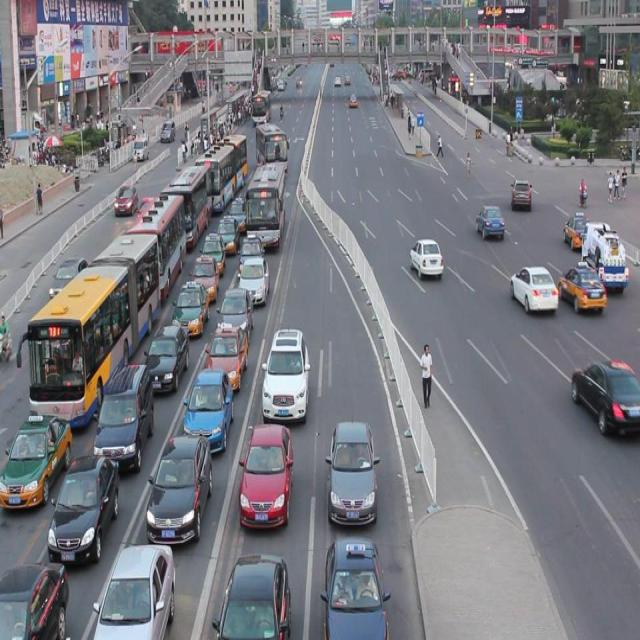bus: (578, 219, 626, 292)
car: (94, 538, 175, 640), (48, 452, 120, 554), (321, 535, 389, 640), (148, 428, 213, 536), (214, 551, 290, 640), (0, 411, 70, 503), (94, 358, 154, 461), (0, 554, 68, 640), (327, 417, 380, 517), (570, 357, 640, 432), (240, 422, 294, 517), (262, 325, 310, 415), (185, 364, 233, 442), (146, 317, 189, 386), (205, 320, 248, 384), (554, 260, 604, 312), (509, 264, 557, 314), (218, 284, 254, 339), (174, 278, 210, 330), (50, 256, 88, 300), (241, 252, 270, 298), (190, 250, 220, 294), (409, 237, 442, 276), (562, 211, 590, 249), (200, 229, 226, 269), (475, 205, 504, 239), (240, 228, 263, 270), (216, 210, 239, 246), (227, 191, 250, 226), (509, 176, 530, 208), (115, 185, 138, 213), (138, 195, 155, 219)
van: (16, 230, 160, 421), (123, 187, 186, 296), (197, 125, 247, 203), (243, 165, 285, 249), (168, 158, 208, 241), (254, 124, 288, 175)
